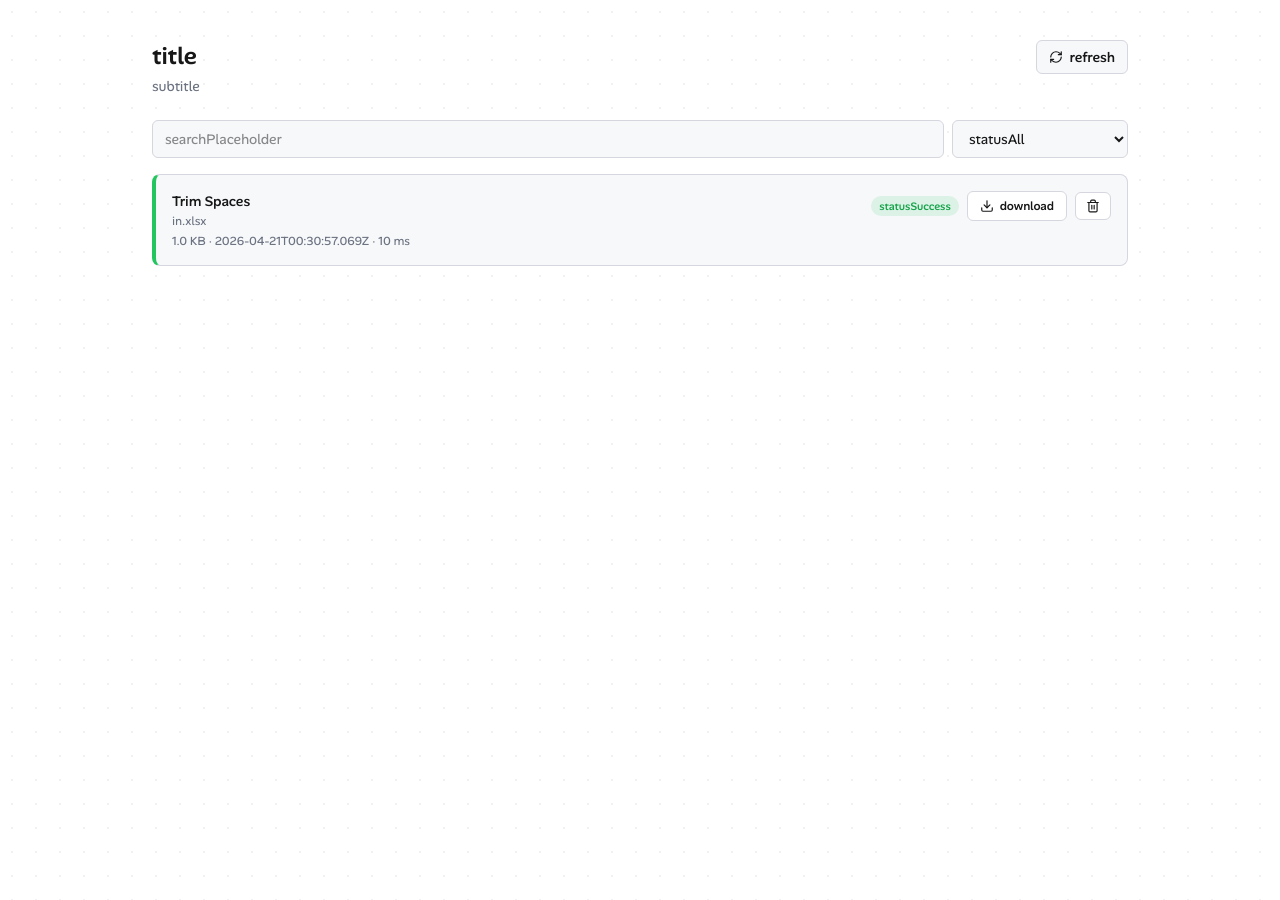
Test: HistoryClient › deletes a job after confirmation and removes it from the list
The width and height of the screenshot is (1280, 900).
Click the button named "delete" at (1093, 206), box [1075, 192, 1111, 220]
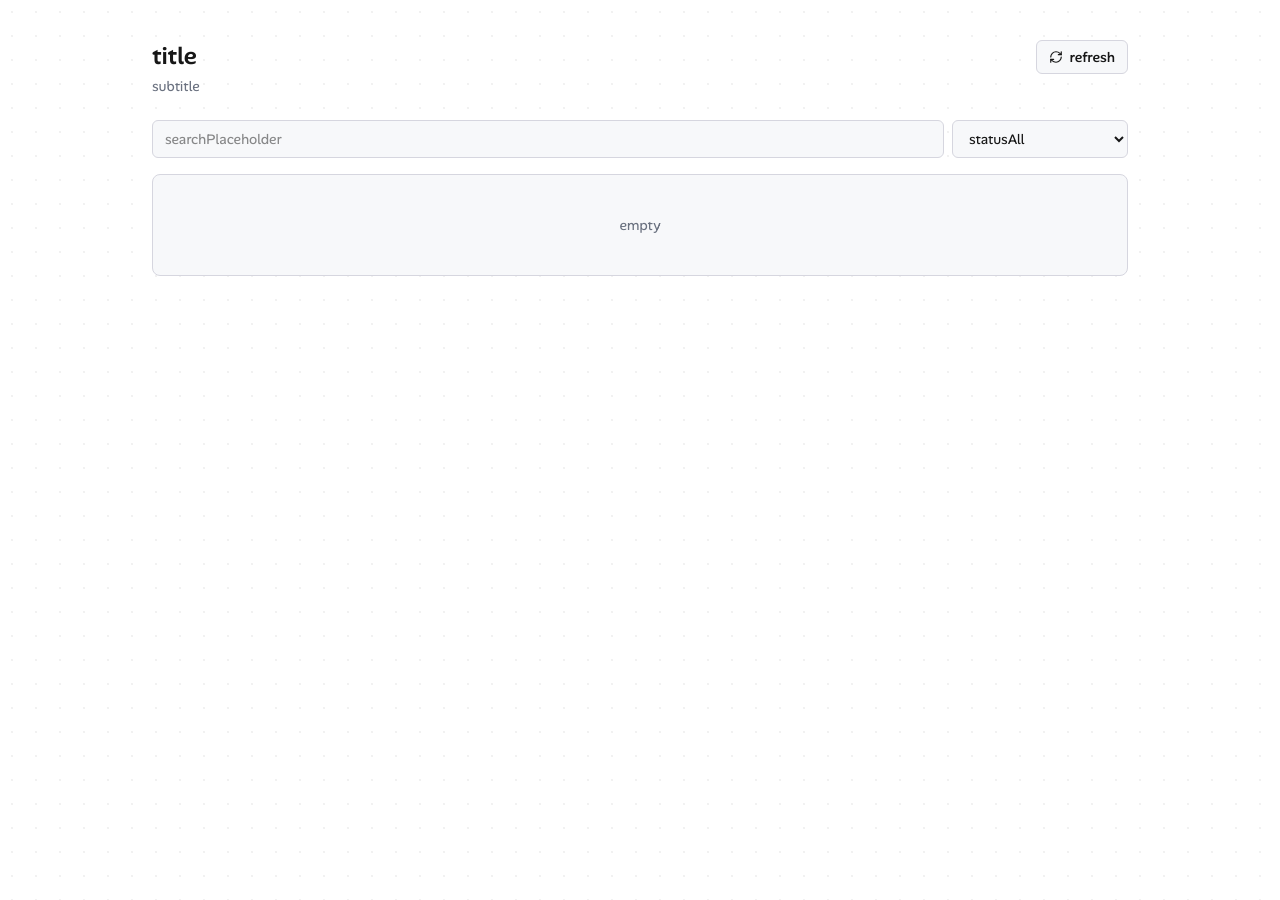
Now the text "empty" is shown, box [619, 216, 661, 234]
